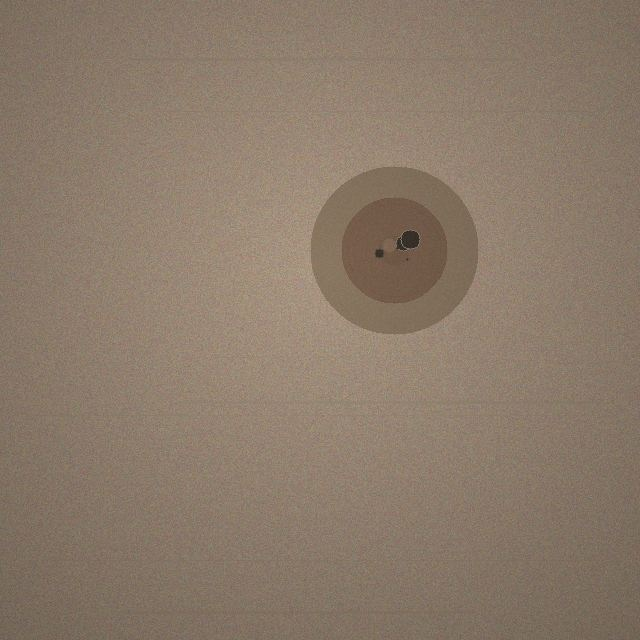shrinkage: (310, 166, 478, 334)
